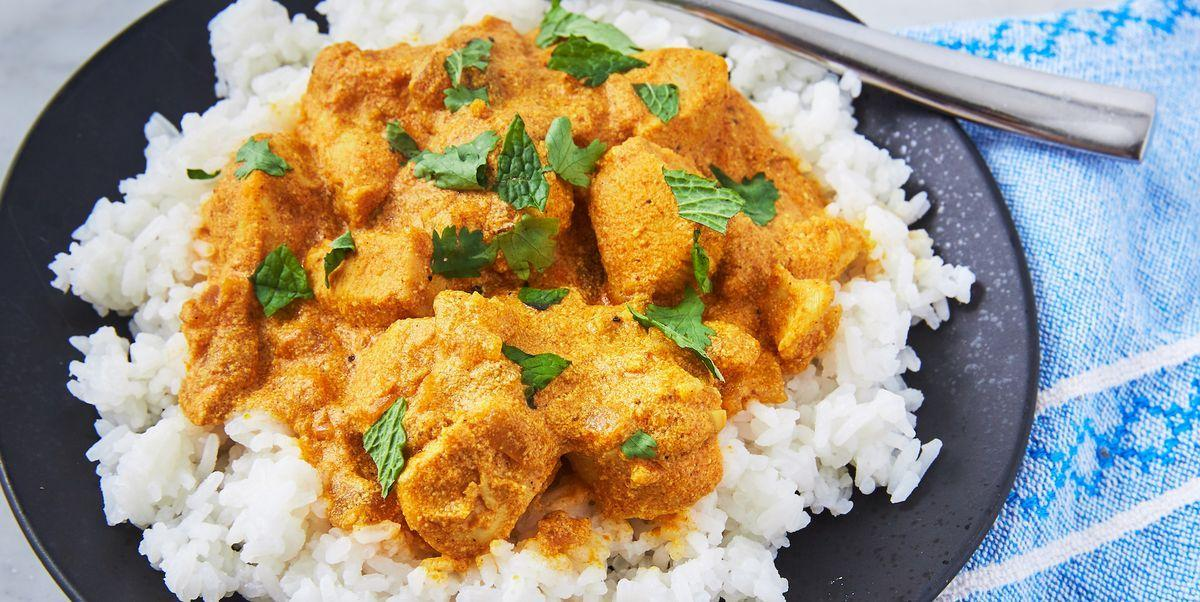chicken: (235, 84, 818, 500)
rice: (57, 38, 955, 598)
